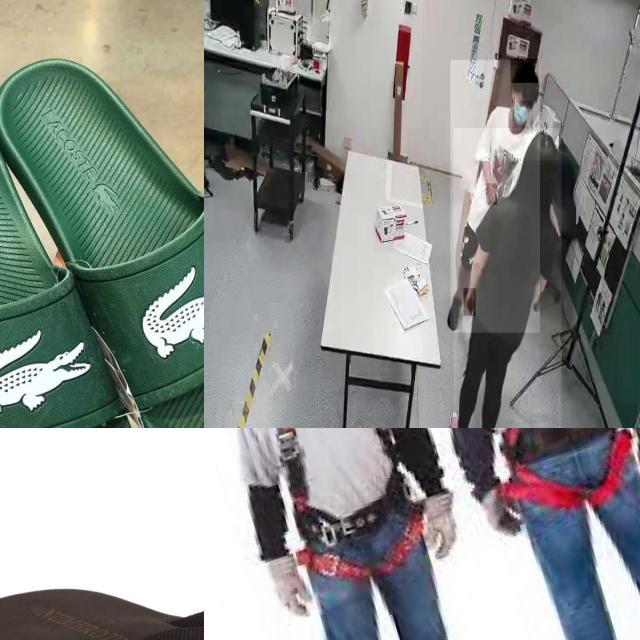Sandals: (0, 42, 204, 428), (0, 585, 204, 640)
face_mask: (513, 100, 533, 134)
hand_noglove: (464, 288, 476, 317), (486, 183, 498, 206)
head_nohelmet: (525, 130, 559, 176), (510, 59, 540, 84)
person: (453, 128, 562, 428), (450, 60, 540, 332)
shoes: (448, 409, 467, 428), (473, 418, 490, 428)
